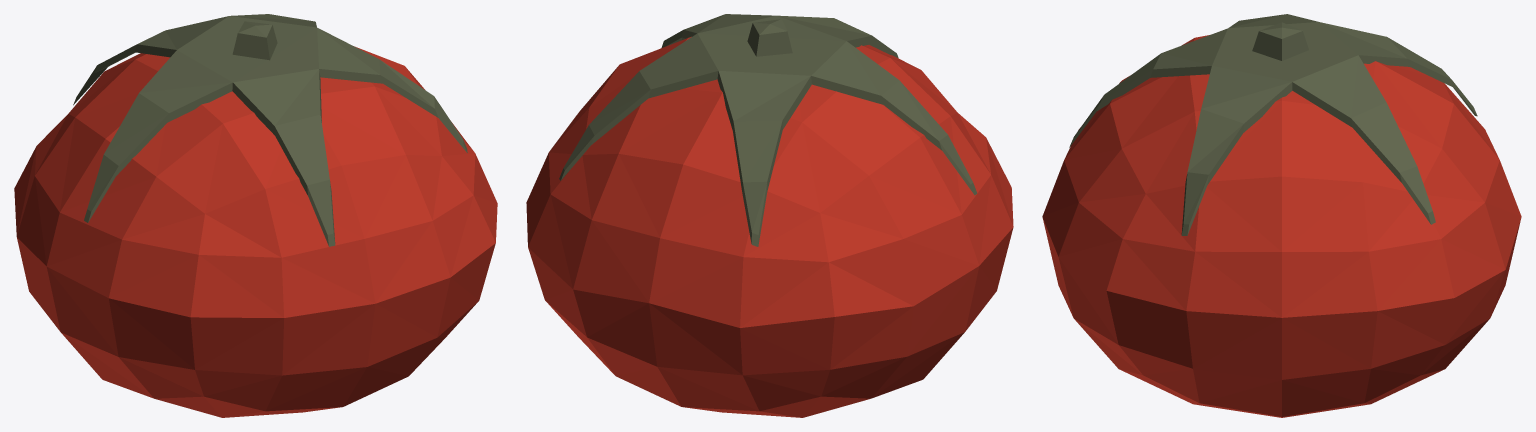
Rendered from produce_tomato.glb.
The picture shows the model from 3 angles, left to right: view 1: azimuth 30°, elevation 25°; view 2: azimuth 150°, elevation 25°; view 3: azimuth 270°, elevation 25°; orthographic projection.
Bounding box in the file's own units: 1 × 0.8324 × 1.
